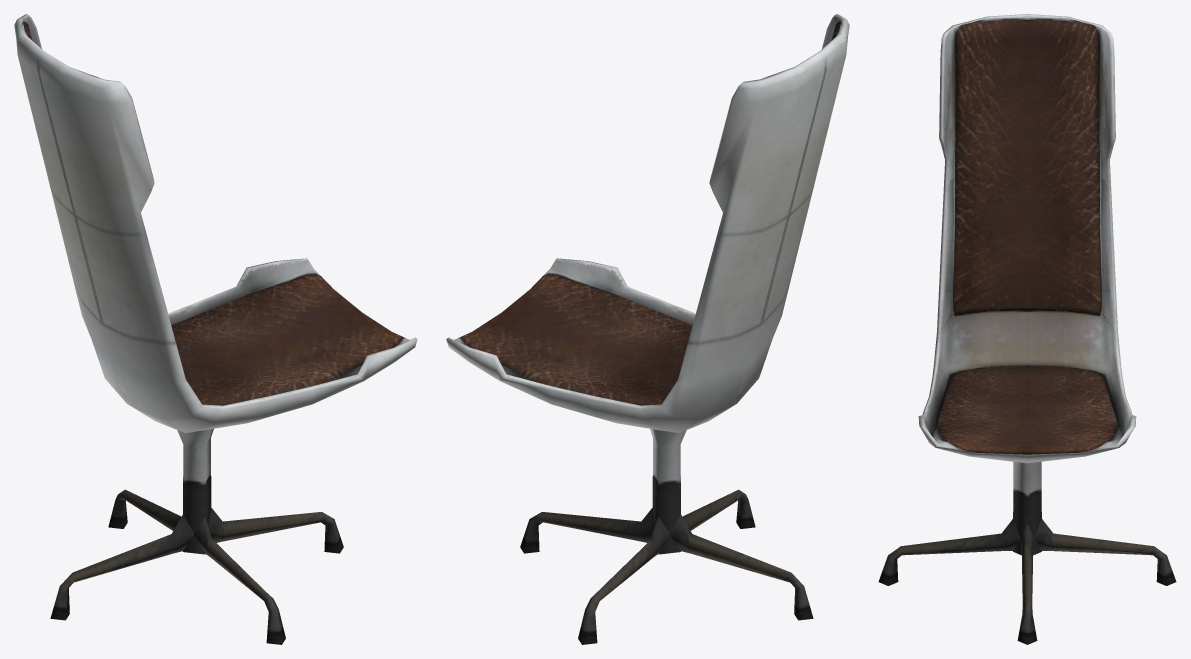
File: ChairUtility01_Worn.FBX
3 views of the same model, side by side, from view 1: azimuth 30°, elevation 25°; view 2: azimuth 150°, elevation 25°; view 3: azimuth 270°, elevation 25° (orthographic). The views are drawn at different scales.
Visible parts, largest first — view 1: ChairUtility01_Worn; view 2: ChairUtility01_Worn; view 3: ChairUtility01_Worn.
Part boxes in pixels (x1,y1,x2,y2): ChairUtility01_Worn: (14, 14, 417, 644); ChairUtility01_Worn: (446, 14, 849, 644); ChairUtility01_Worn: (878, 14, 1176, 644).
Size of the model in its own units: 0.6915 by 1.15 by 0.621.
